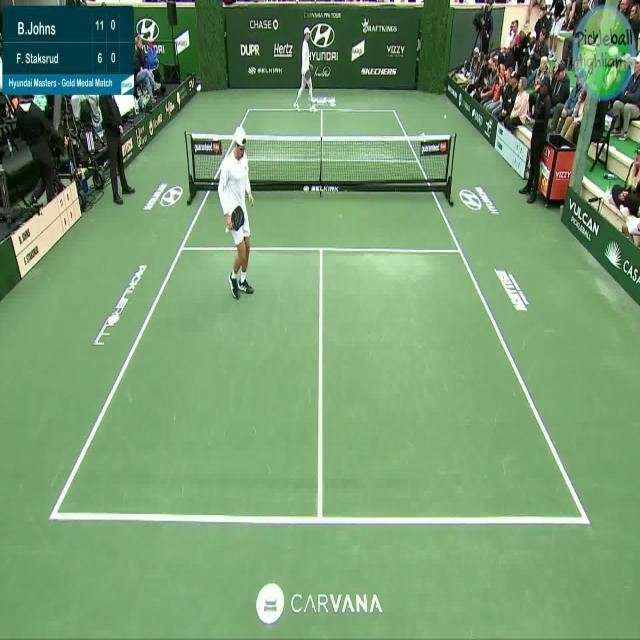ball: (444, 112, 446, 119)
